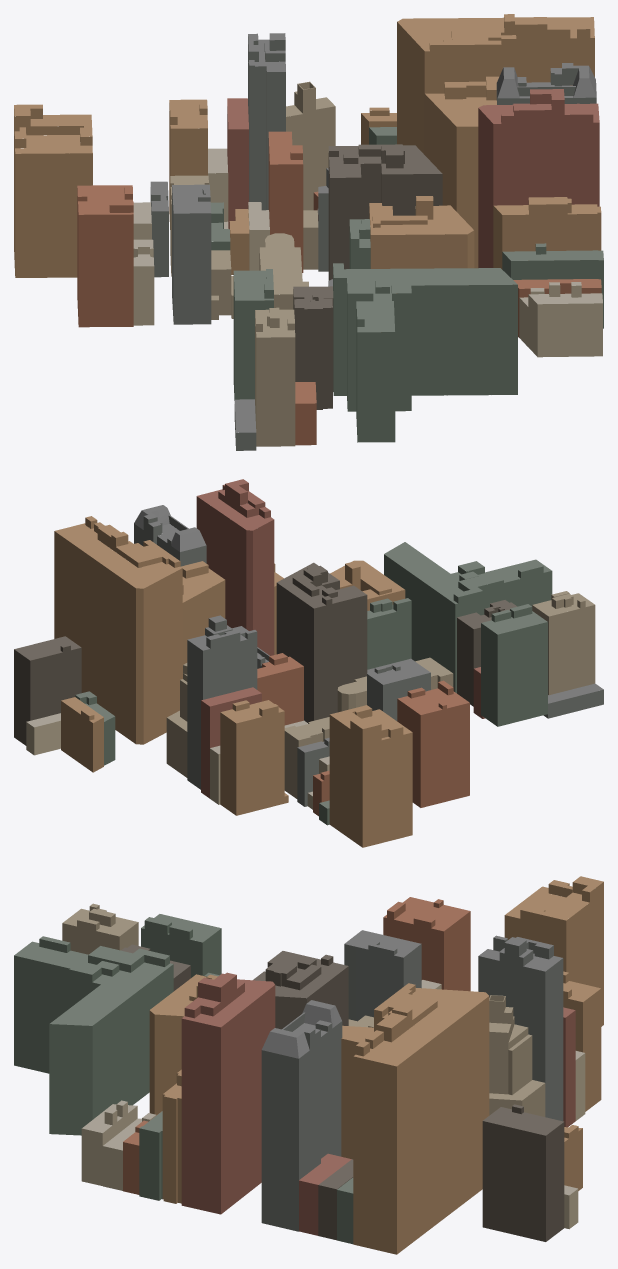
The model's file is tile-3_-8.glb.
3 views of the same model, one above another, from view 1: azimuth 30°, elevation 25°; view 2: azimuth 150°, elevation 25°; view 3: azimuth 270°, elevation 25° (orthographic). The views are drawn at different scales.
Visible parts, largest first — view 1: wall, roof; view 2: wall, roof; view 3: wall, roof.
Part boxes in pixels (box(x1,y1,x2,y2)): wall: box(14, 17, 603, 450); roof: box(14, 14, 603, 432); wall: box(14, 483, 603, 847); roof: box(14, 479, 603, 808); wall: box(14, 882, 603, 1254); roof: box(14, 876, 603, 1195).
Size of the model in its own units: 230 by 93.89 by 230.
